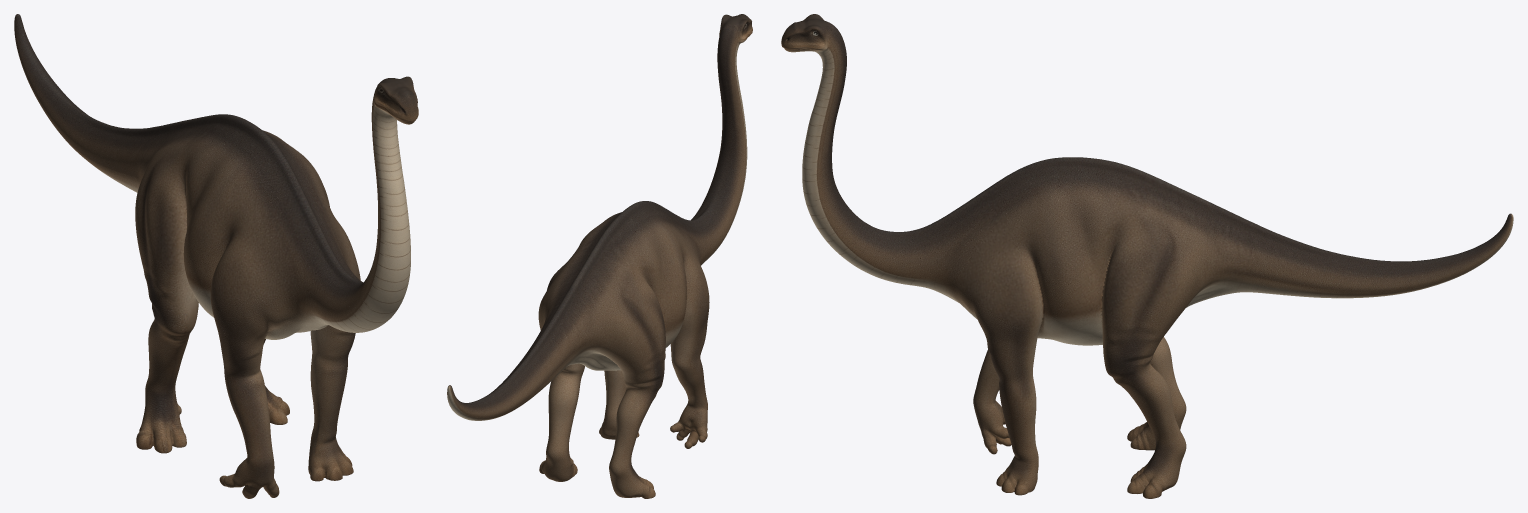
File: Brontosaurus.glb
3 renders of one model, left to right at view 1: azimuth 30°, elevation 25°; view 2: azimuth 150°, elevation 25°; view 3: azimuth 270°, elevation 25°, orthographic. The views are drawn at different scales.
Bounding box in the file's own units: 0.4163 × 1.27 × 1.9.
1 material, 1 textured.
